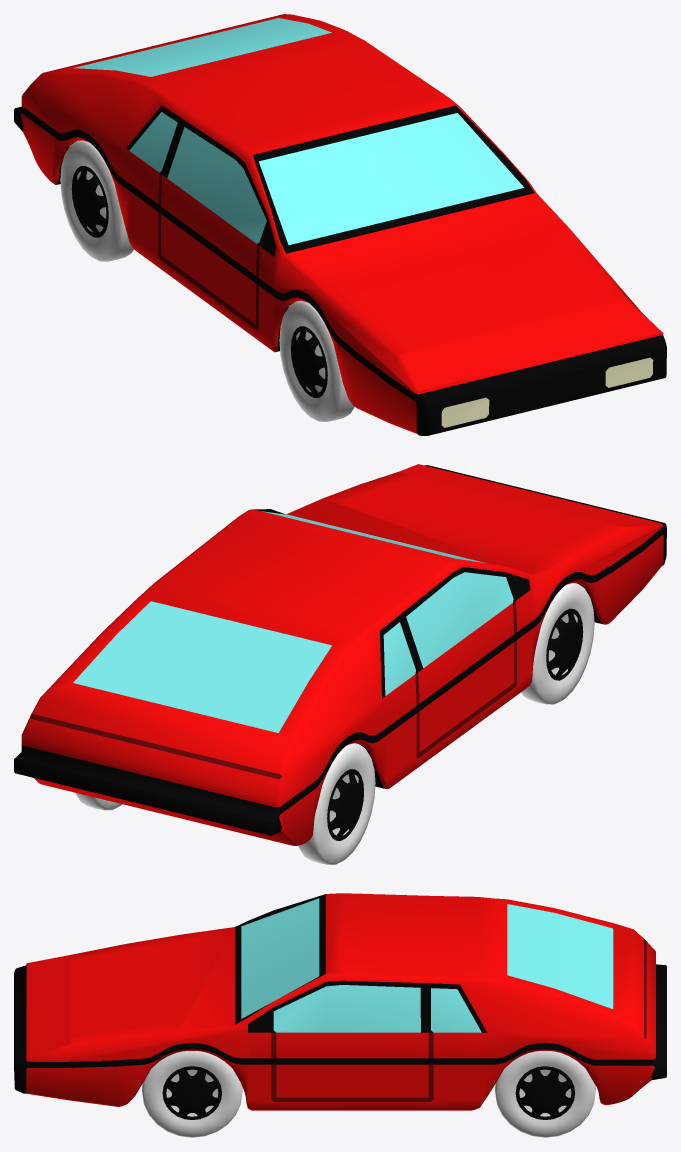
The picture shows the model from 3 angles, top to bottom: view 1: azimuth 30°, elevation 25°; view 2: azimuth 150°, elevation 25°; view 3: azimuth 270°, elevation 25°; orthographic projection. The views are drawn at different scales.
Parts seen in each view (by area): view 1: object 5, ruedaDD, ruedaTD; view 2: object 5, ruedaTD, ruedaDD; view 3: object 5, ruedaDI, ruedaTI.
Boxes of the visible parts, x1,y1,x2,y2 form: object 5: (14,14,666,435); ruedaDD: (279,300,354,421); ruedaTD: (60,140,133,261); object 5: (14,464,666,845); ruedaTD: (298,743,375,864); ruedaDD: (521,583,594,704); object 5: (14,893,666,1110); ruedaDI: (142,1051,242,1137); ruedaTI: (495,1051,595,1137).
Size of the model in its own units: 1.14 by 0.8204 by 3.04.
